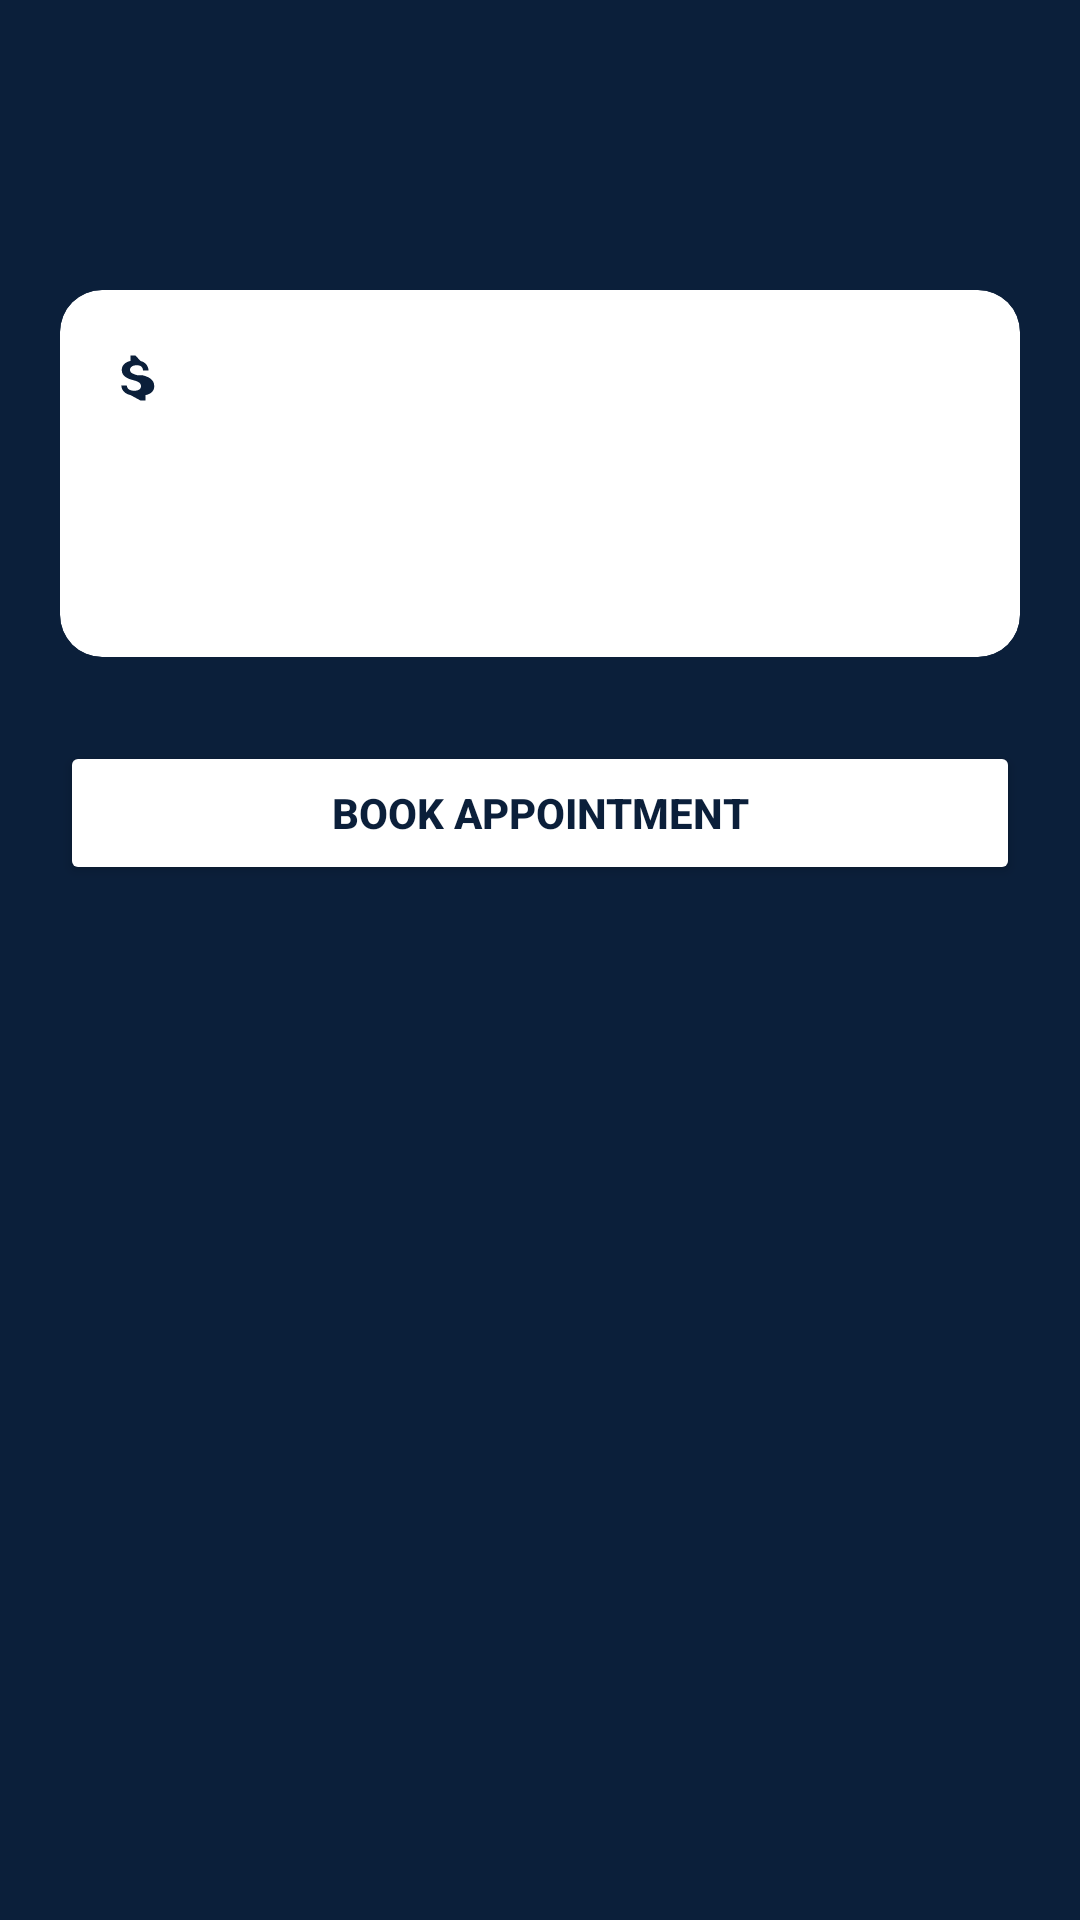

Where icons sit on this 1080*1920 app screen, as (x1, y1, x2, y2):
price: (121, 355, 155, 401)
